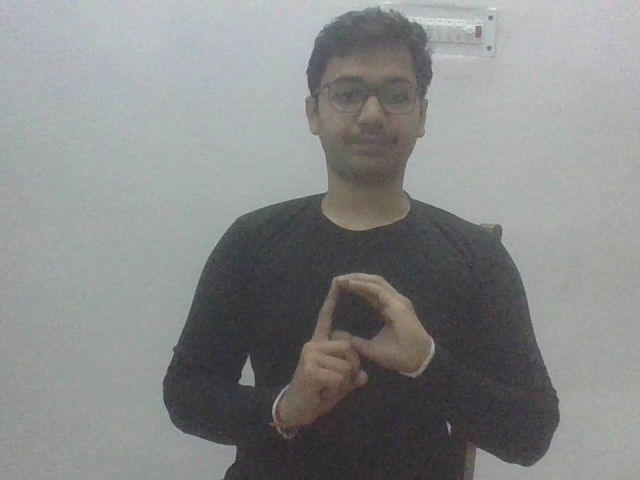D: (269, 266, 437, 441)
